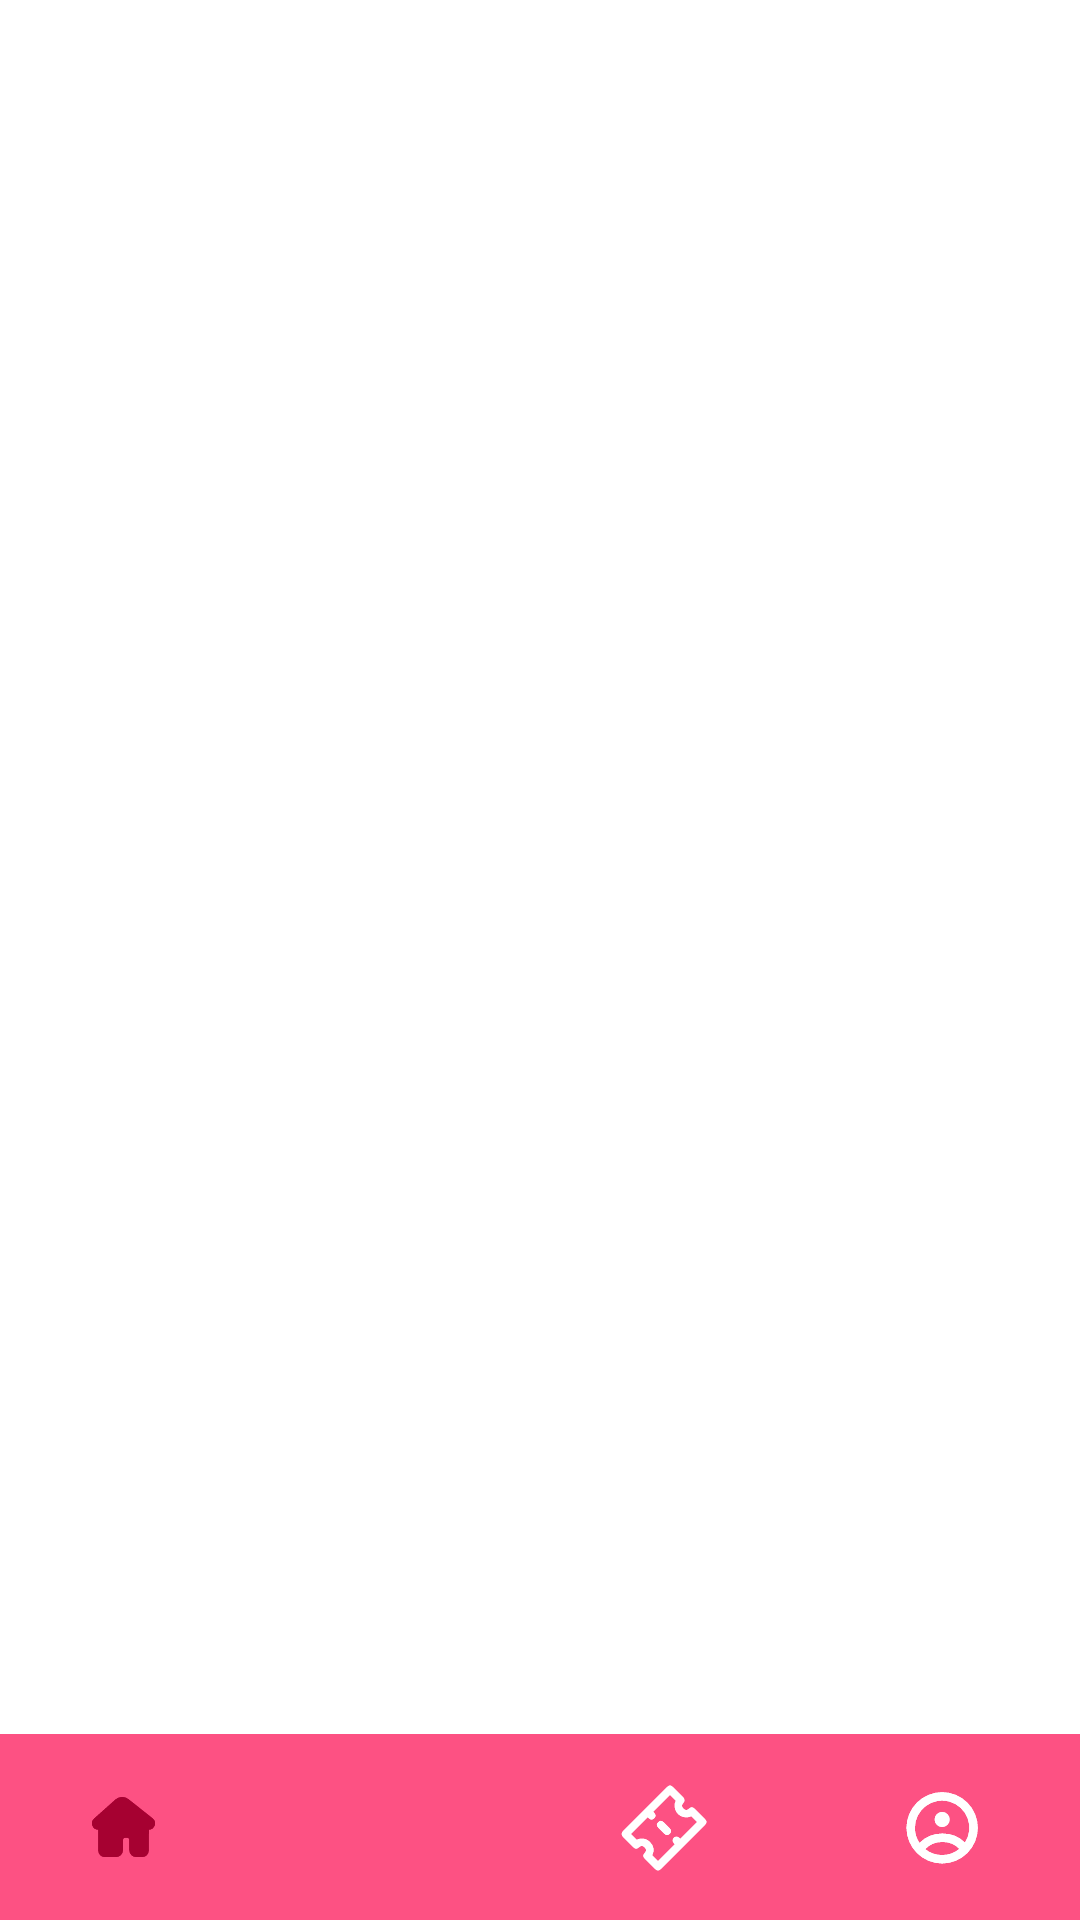

Where to tap for icons on this 1080 x 1920 app screen, as (x=x, y=y):
bottom bar tickets: (x=664, y=1828)
bottom bar user: (x=942, y=1828)
home: (x=123, y=1827)
